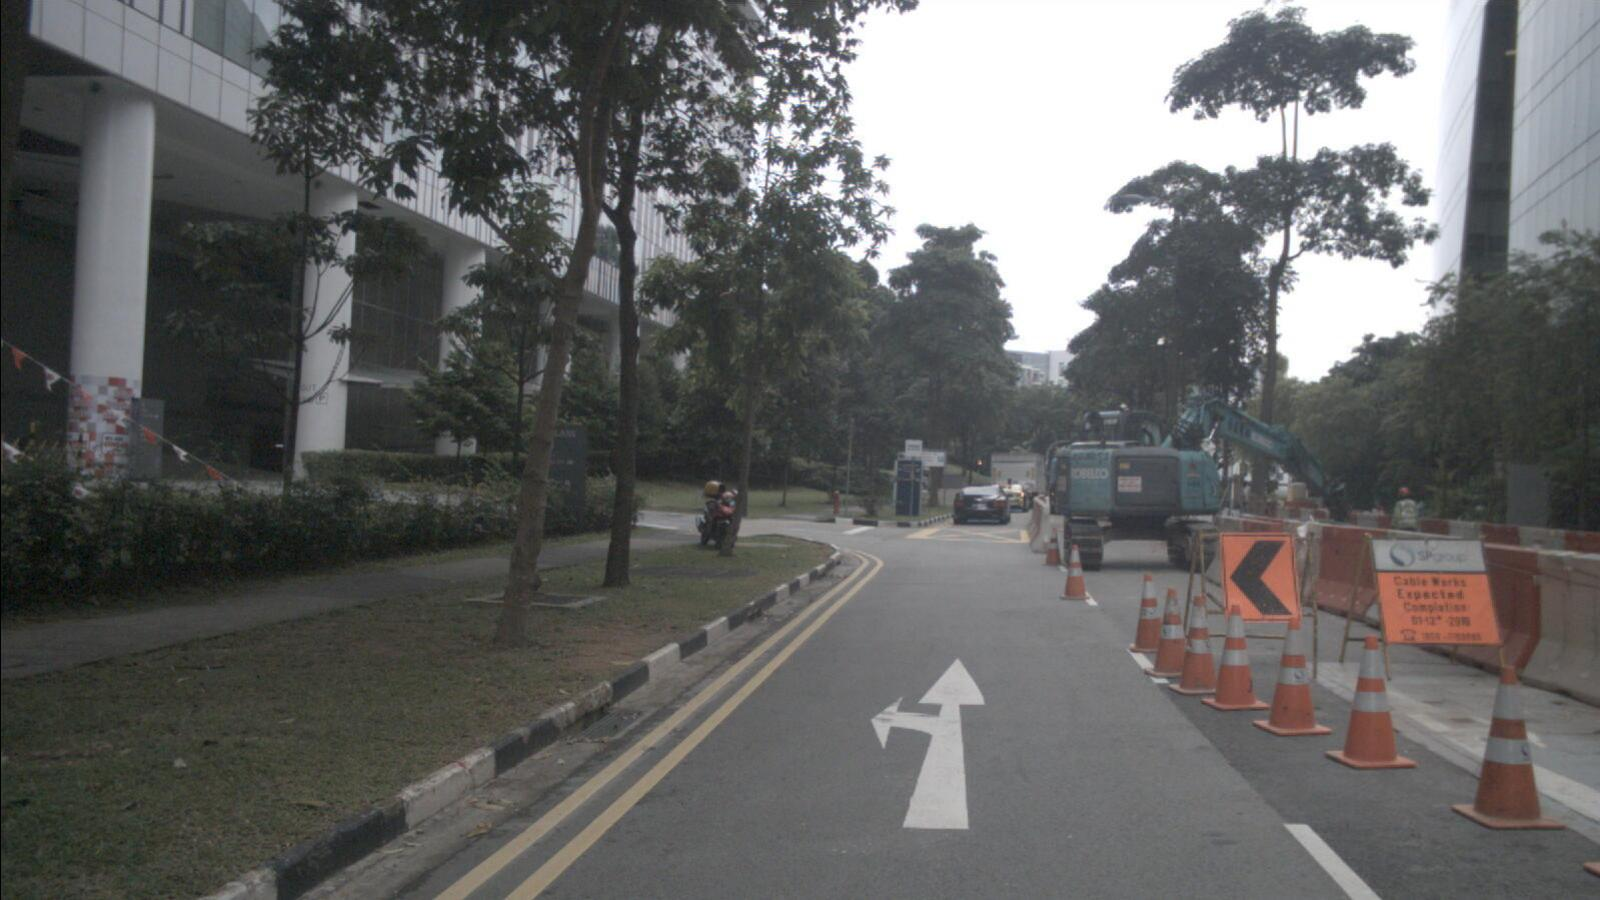human.pedestrian.construction_worker-pedestrian.moving: (1390, 487, 1420, 574)
